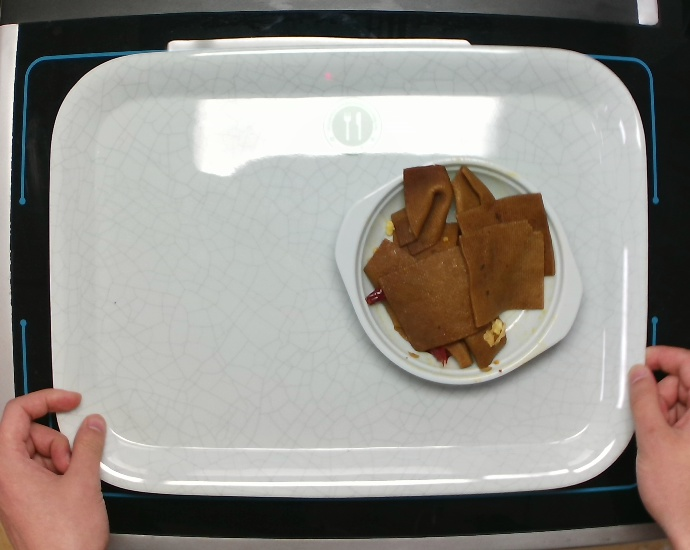JYsf-Shuang_Er_Pan: (315, 148, 591, 394)
